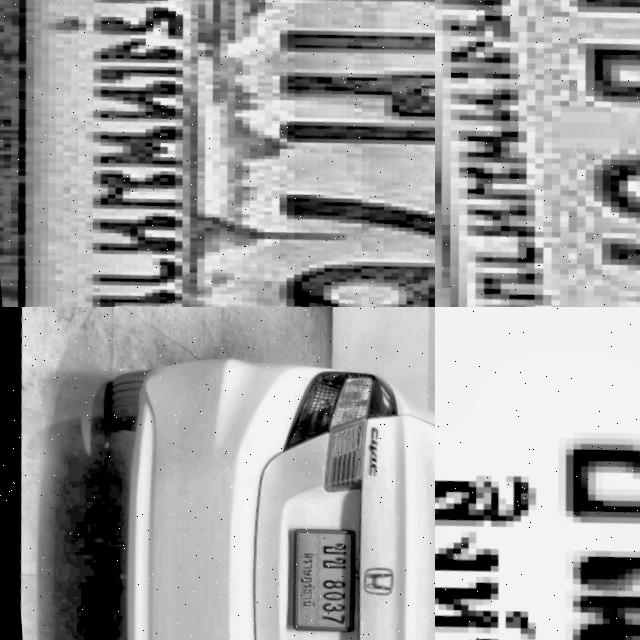license-plate: (0, 0, 435, 307), (435, 307, 640, 640), (435, 0, 640, 307), (269, 524, 367, 640)
